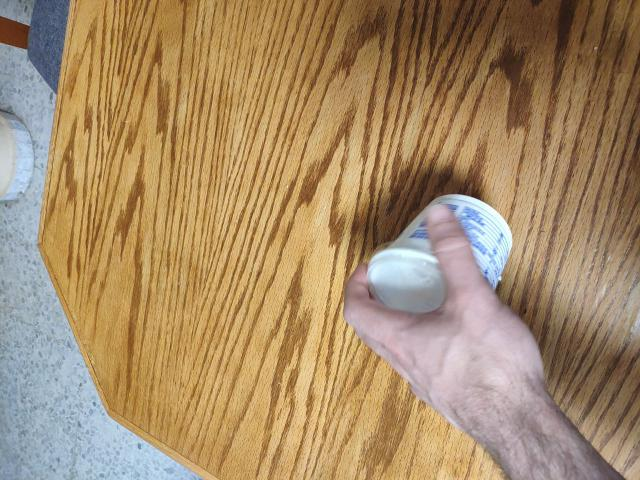cotage: (362, 203, 525, 339)
